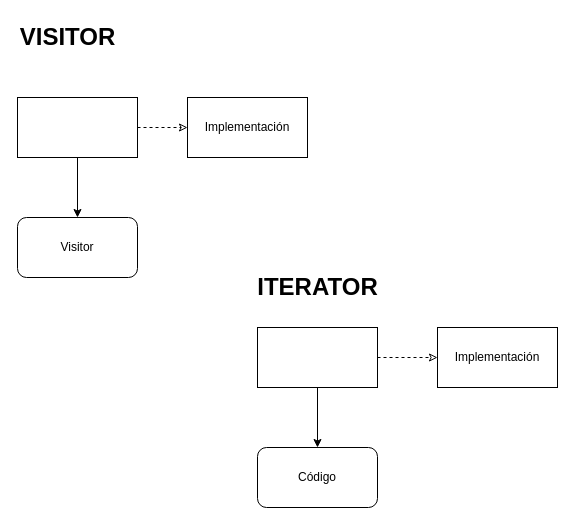
Image size: 575x525. Some labels were removed from this diagram. Here are the shapes that lost their labels. From the top down, the box of each, then its label:
(16, 96, 138, 158): Visitor Engine
(256, 326, 378, 388): Iterador
